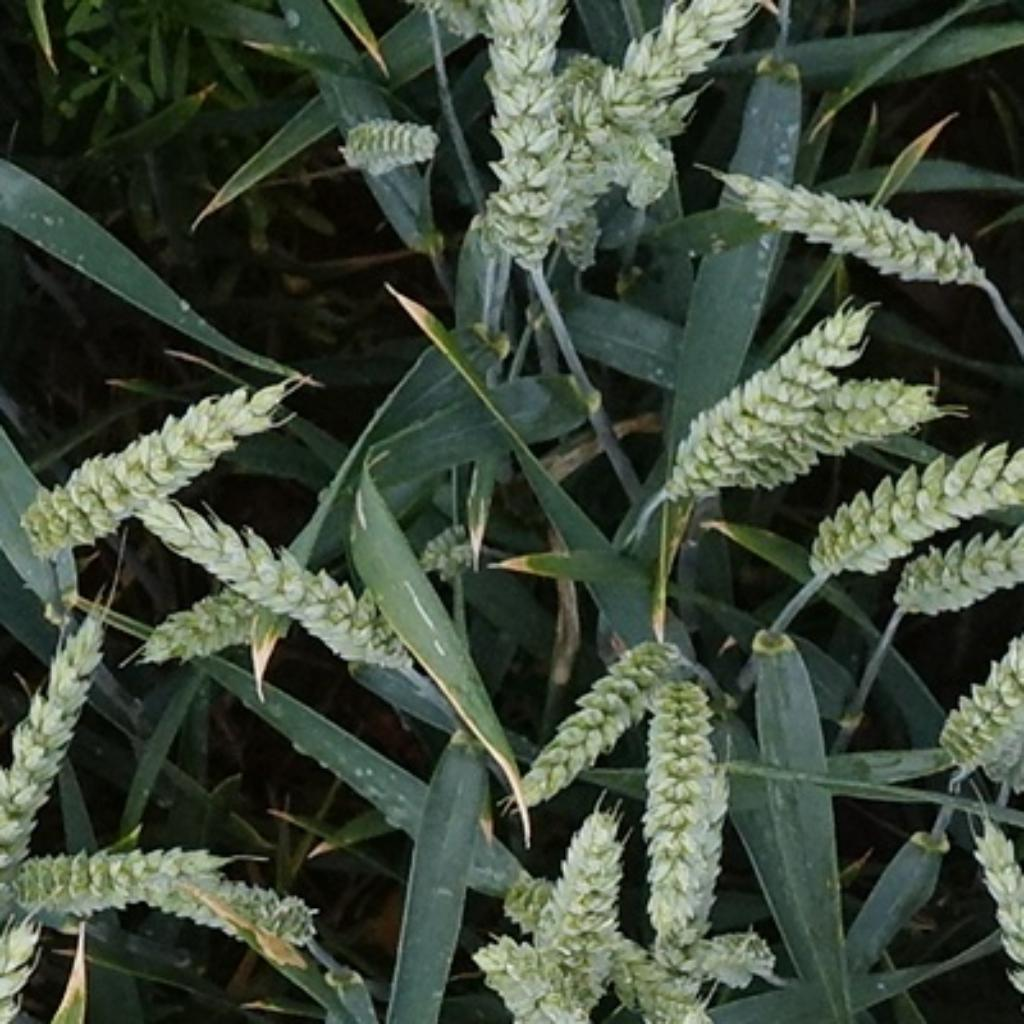0-0: (8, 371, 299, 576), (125, 486, 430, 670), (563, 2, 777, 246), (655, 304, 888, 496), (705, 155, 996, 301), (489, 601, 679, 823), (629, 665, 742, 931), (806, 450, 1024, 583), (465, 2, 568, 276), (5, 596, 110, 832), (514, 801, 632, 970), (545, 43, 704, 163), (2, 839, 248, 911), (889, 513, 1023, 631), (471, 911, 604, 1024), (928, 633, 1024, 783), (801, 355, 957, 442), (174, 866, 314, 956), (124, 589, 255, 672), (675, 916, 784, 1001), (597, 136, 694, 226), (326, 110, 444, 179), (614, 934, 704, 1024), (406, 518, 488, 585)
